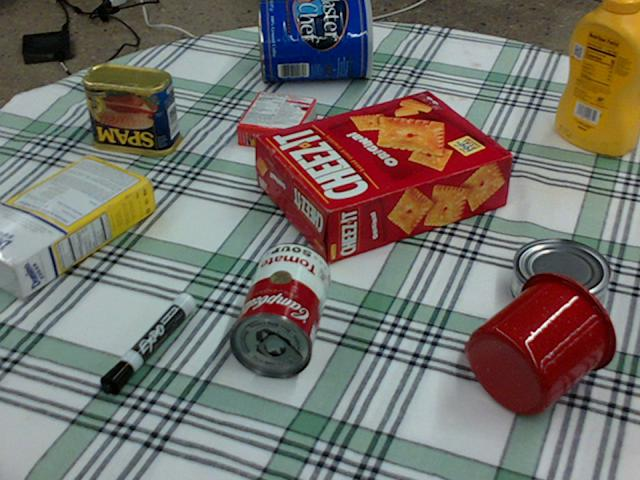cracker_box: (257, 90, 512, 262)
gelatin_box: (236, 89, 315, 153)
large_marker: (98, 293, 194, 395)
master_chef_can: (256, 0, 373, 82)
mug: (466, 269, 616, 415)
mustard_bottle: (553, 0, 639, 155)
potted_meat_can: (83, 63, 181, 155)
sugar_box: (0, 156, 152, 297)
tomato_soup_can: (228, 240, 331, 376)
tuna_fish_can: (511, 236, 611, 321)
